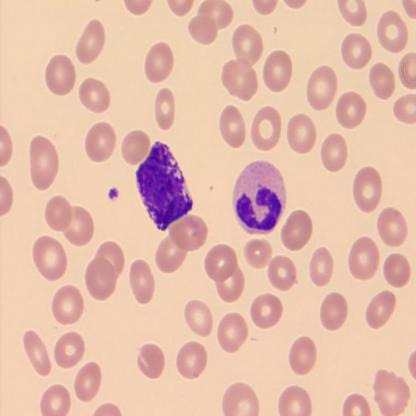Basophil: (135, 139, 194, 233)
